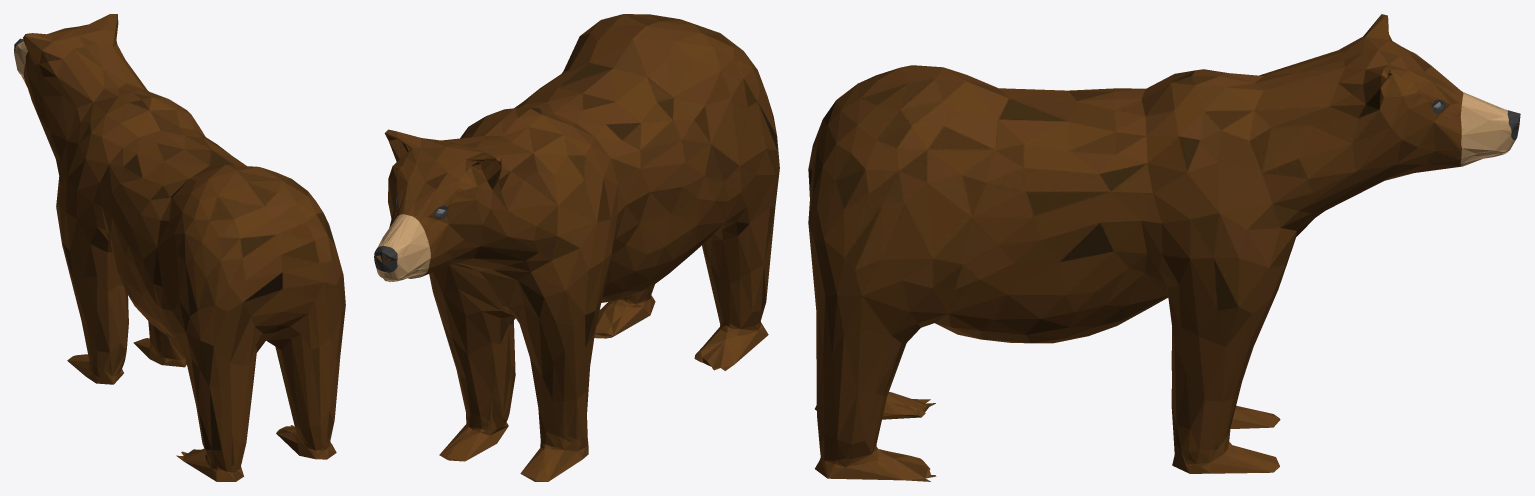
The picture shows the model from 3 angles, left to right: view 1: azimuth 30°, elevation 25°; view 2: azimuth 150°, elevation 25°; view 3: azimuth 270°, elevation 25°; orthographic projection. The views are drawn at different scales.
Visible parts, largest first — view 1: oso1_2; view 2: oso1_2; view 3: oso1_2.
Part boxes in pixels (x1=…): oso1_2: x1=14, y1=14, x2=345, y2=481; oso1_2: x1=374, y1=14, x2=779, y2=481; oso1_2: x1=808, y1=14, x2=1520, y2=481.
Size of the model in its own units: 4.24 by 7.69 by 12.39.
